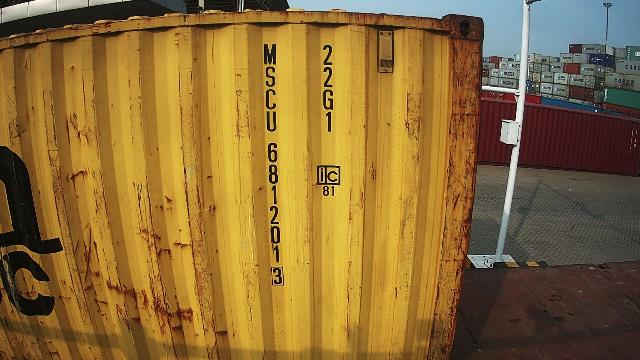0: (271, 226, 281, 244)
1: (271, 185, 277, 204), (274, 245, 280, 263)
2: (268, 205, 280, 225)
3: (272, 266, 284, 286)
6: (268, 142, 278, 164)
8: (268, 164, 278, 184)
C: (266, 90, 276, 110)
M: (264, 43, 276, 65)
S: (264, 66, 276, 86)
U: (266, 112, 278, 132)
